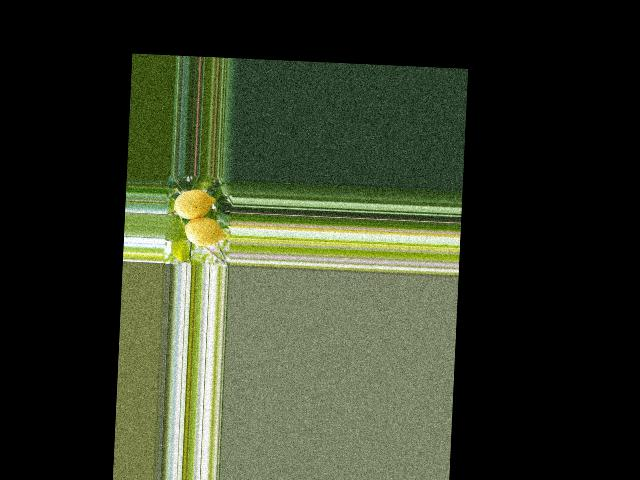lemon: (181, 214, 226, 249)
